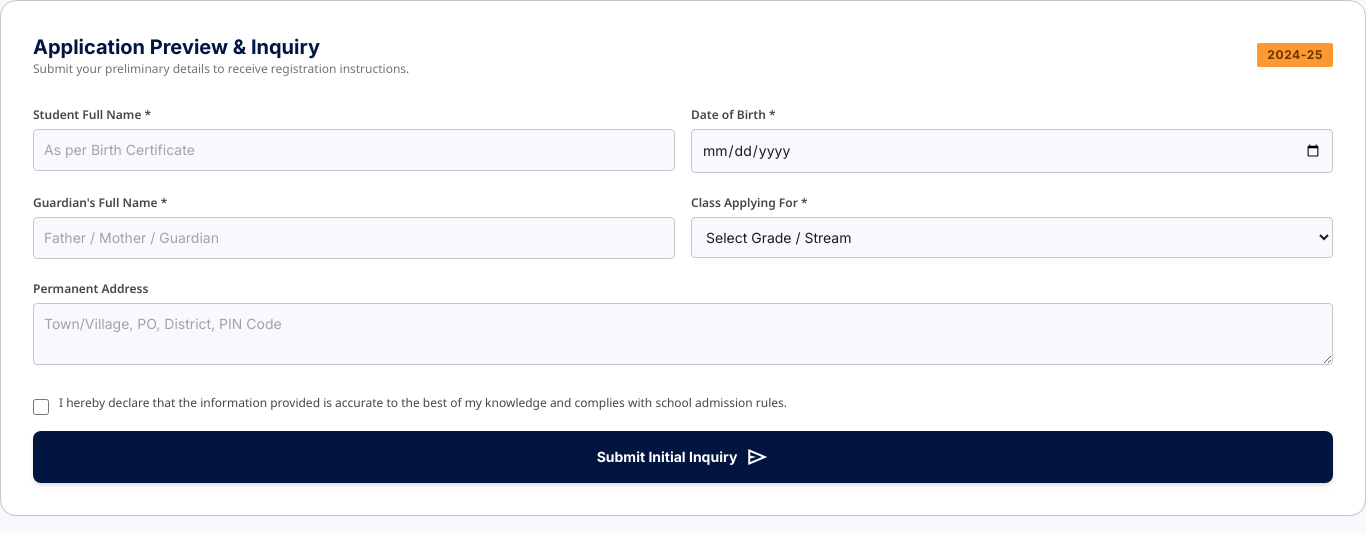
Test: ApplicationCTA Component › renders form inputs and handles submission
Expected: the heading "Application Preview & Inquiry" is shown, [33,35,320,59]
// Fill form
Type "Koustav Bera" into the field with placeholder "As per Birth Certificate".
click(354, 150); type("Koustav Bera")  # box [33,129,675,171]
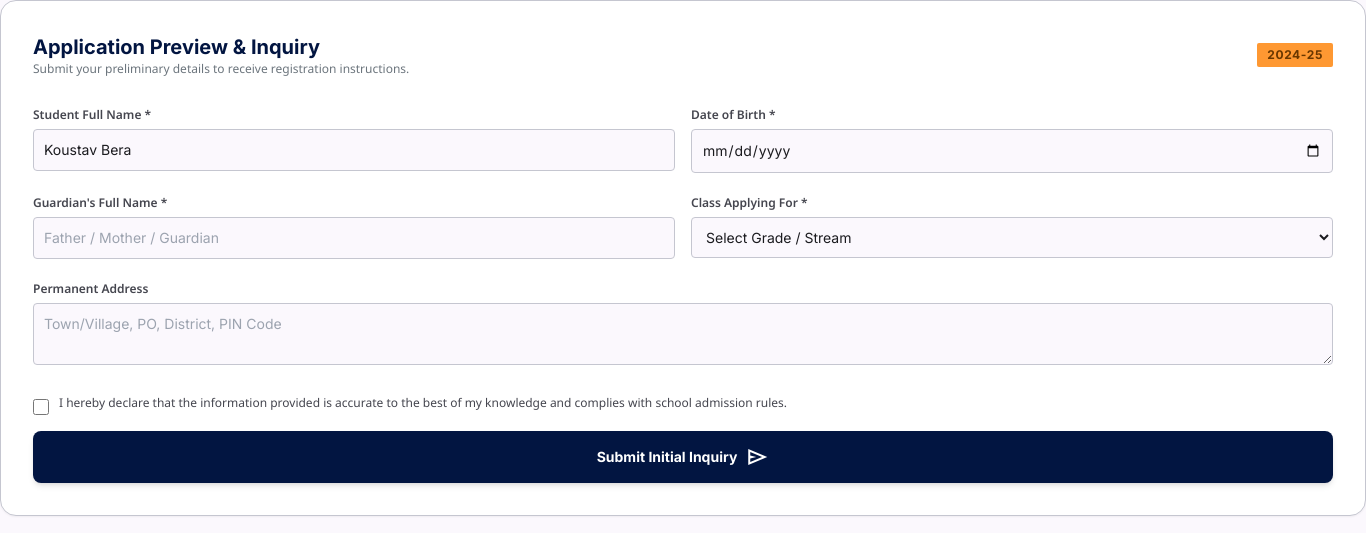
Type "2008-05-15" into the date field labelled "Date of Birth *".
click(1012, 151); type("2008-05-15")  # box [691,129,1333,173]
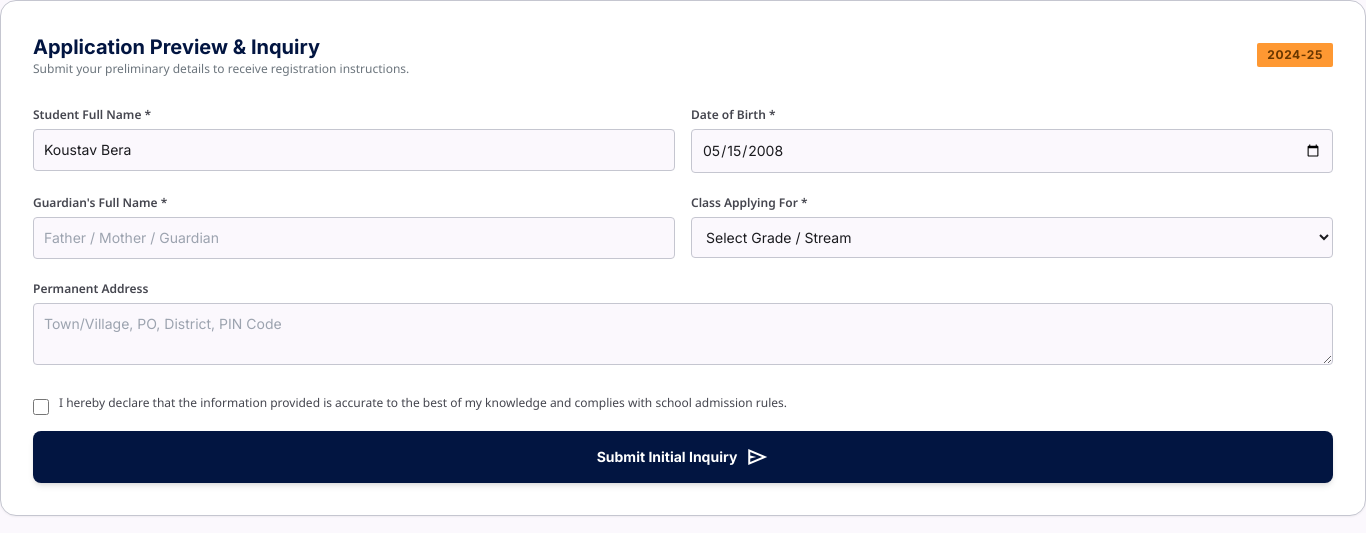
Type "B. Bera" into the field with placeholder "Father / Mother / Guardian".
click(354, 238); type("B. Bera")  # box [33,217,675,259]
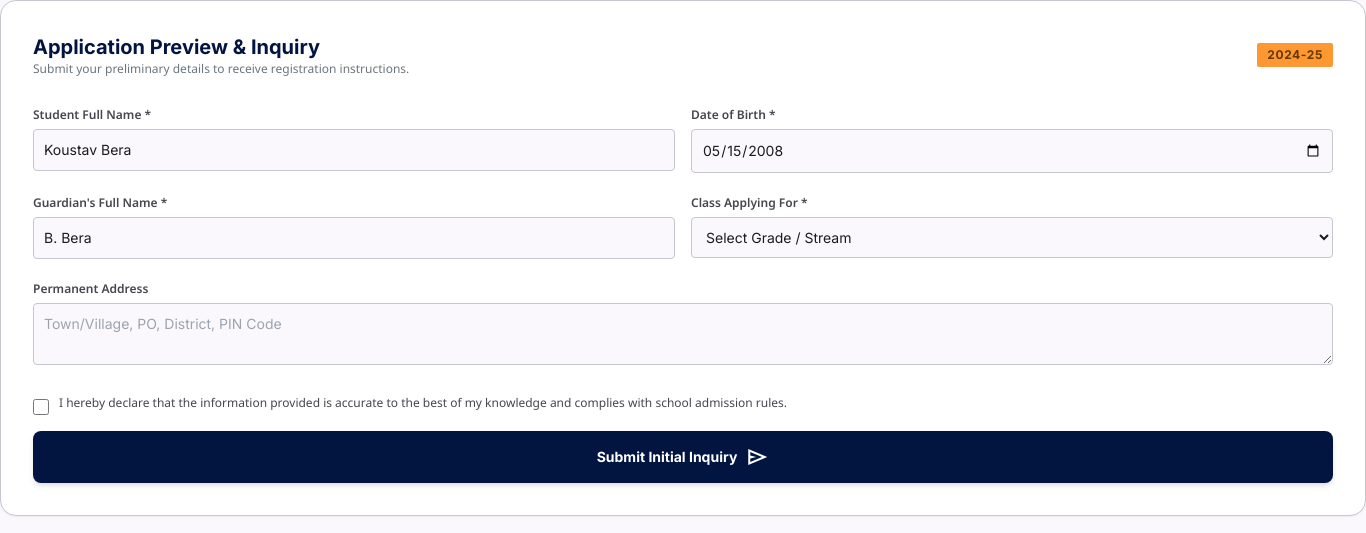
Select "Class XI - Science Stream" in the dropdown at (1012, 238), box [691,217,1333,258]
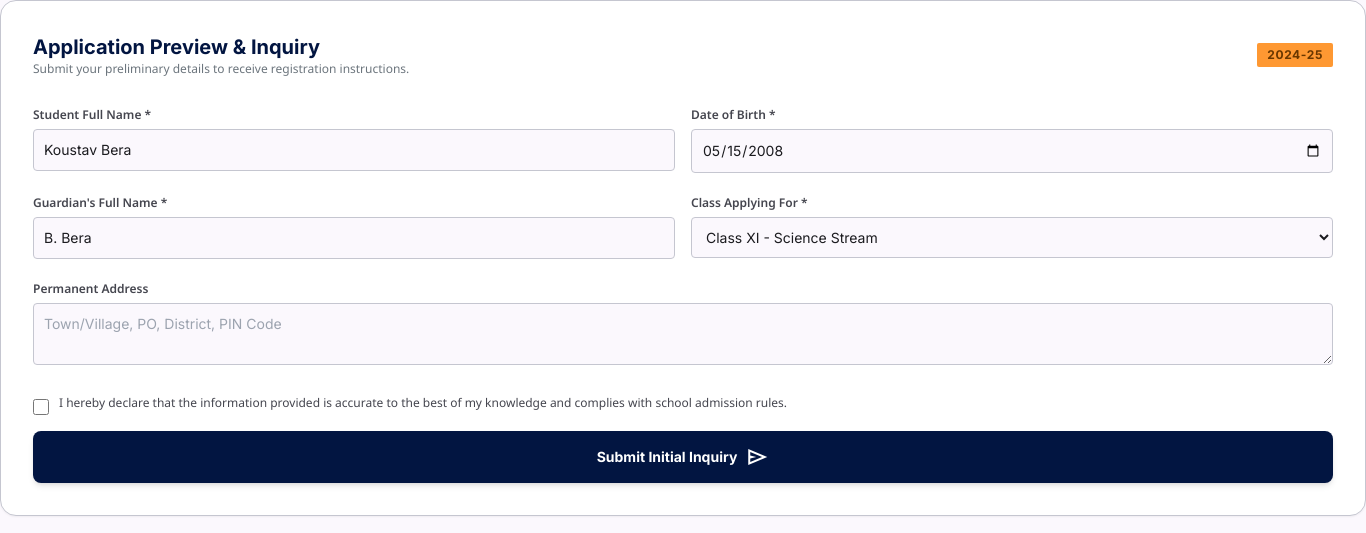
Click the checkbox.
click(41, 407)  # box [33,399,49,415]
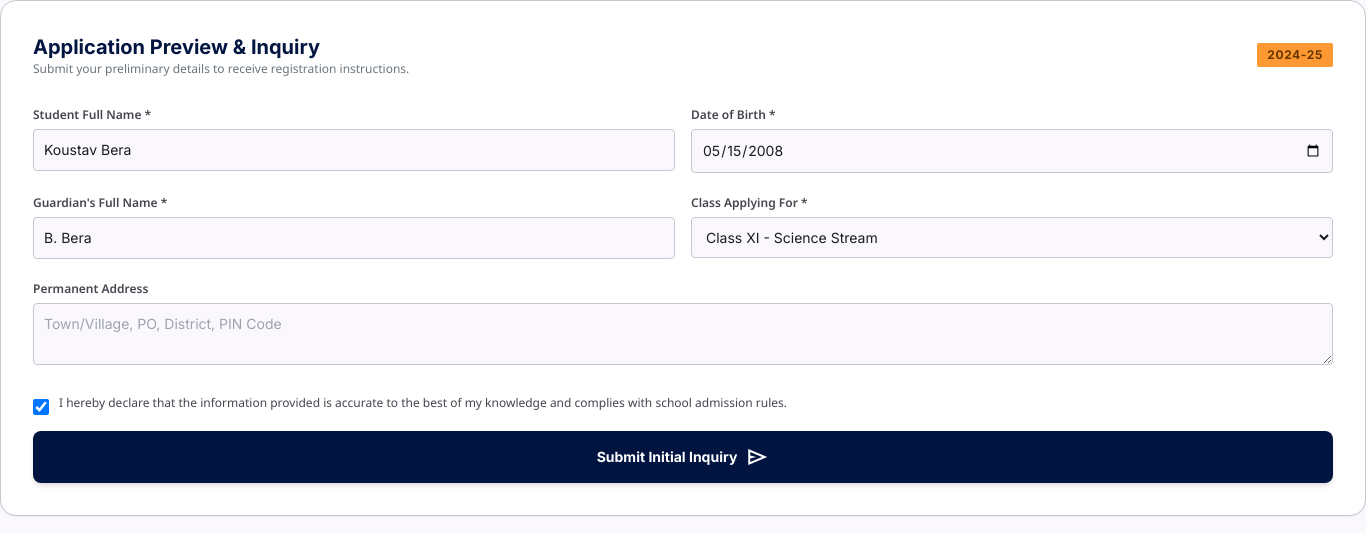
Click the button "Submit Initial Inquiry".
click(683, 457)  # box [33,431,1333,483]
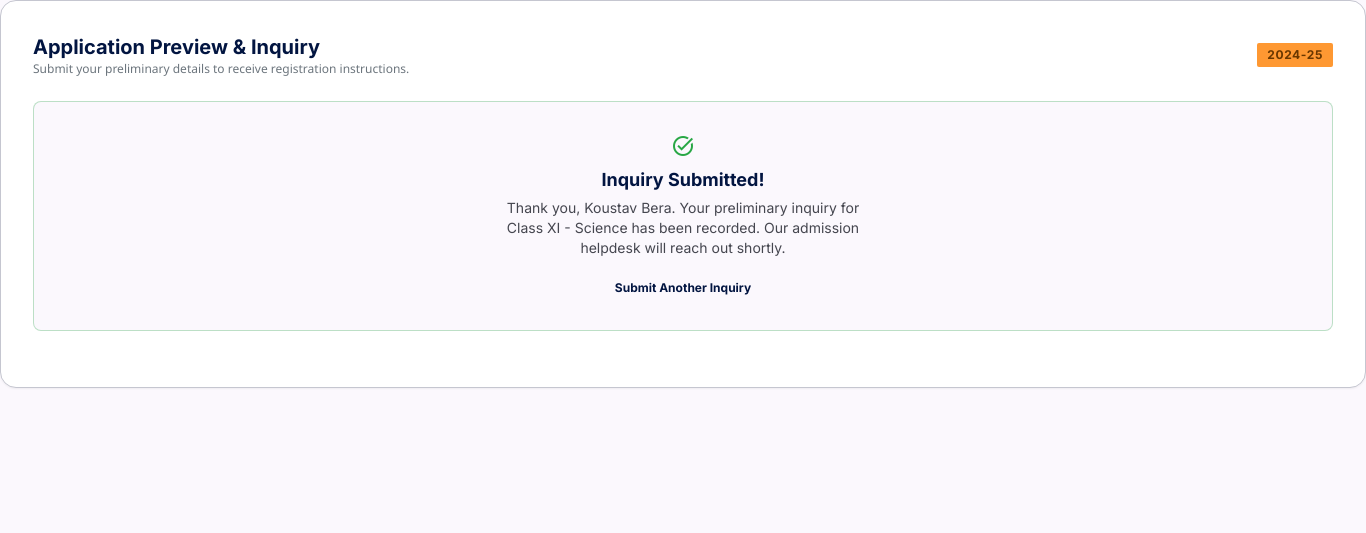
Now the heading "Inquiry Submitted!" is shown, box [602,169,764,190]
Now the text "Thank you, Koustav Bera" is shown, box [507,199,859,256]
